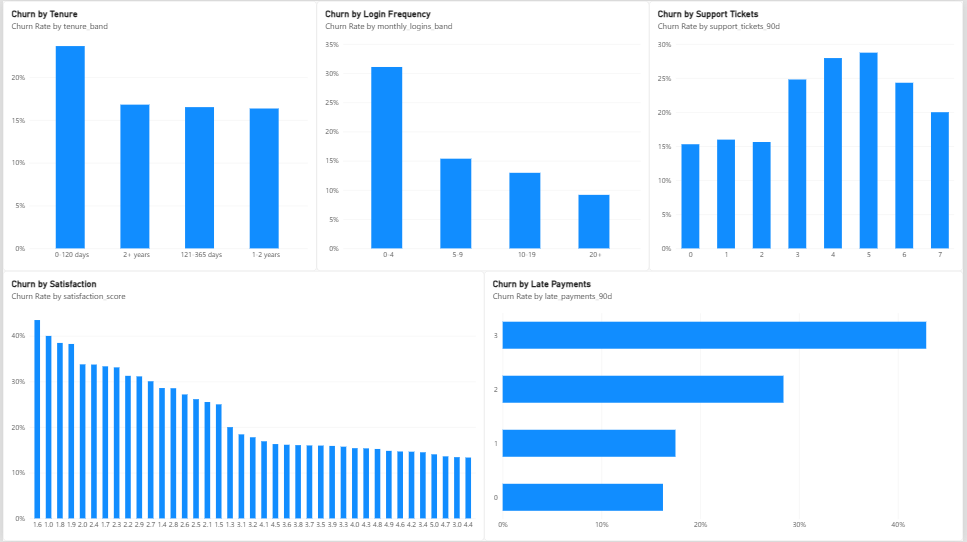

Layout of this report page (visuals, bound fields, positions):
{"tool":"powerbi","page":{"name":"Churn Driver Analysis","canvas":[1920,1080],"ordinal":1},"visuals":[{"type":"columnChart","title":"Churn by Tenure","fields":{"Category":["customers_clean.tenure_band"],"Y":["customers_clean.Churn Rate"]},"box":[0,0,627,540],"z":0},{"type":"columnChart","title":"Churn by Login Frequency","fields":{"Category":["customers_clean.monthly_logins_band"],"Y":["customers_clean.Churn Rate"]},"box":[627.5,0,665,540],"z":1},{"type":"columnChart","title":"Churn by Satisfaction","fields":{"Category":["customers_clean.satisfaction_score"],"Y":["customers_clean.Churn Rate"]},"box":[0,540,962.5,540],"z":2},{"type":"columnChart","title":"Churn by Support Tickets","fields":{"Category":["customers_clean.support_tickets_90d"],"Y":["customers_clean.Churn Rate"]},"box":[1292.5,0,627,540],"z":3},{"type":"barChart","title":"Churn by Late Payments","fields":{"Category":["customers_clean.late_payments_90d"],"Y":["customers_clean.Churn Rate"]},"box":[962.5,540,957.5,540],"z":4}]}

Visuals, with their boxes in screenshot pixels (x1, y1, x2, y2), scaled from the page's 1920x1080 canvas onto the 967x542 screenshot:
"Churn by Tenure" columnChart: Rect(0, 0, 316, 271)
"Churn by Login Frequency" columnChart: Rect(316, 0, 651, 271)
"Churn by Satisfaction" columnChart: Rect(0, 271, 485, 541)
"Churn by Support Tickets" columnChart: Rect(651, 0, 966, 271)
"Churn by Late Payments" barChart: Rect(485, 271, 966, 541)
